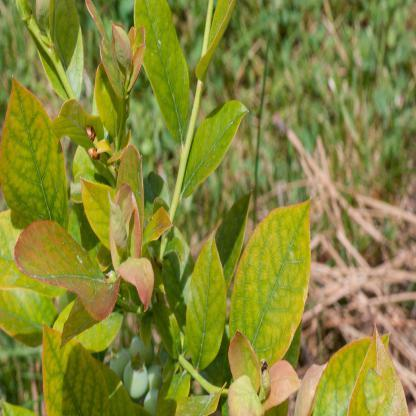Blueberry leaf: (230, 193, 319, 384), (1, 70, 76, 228), (9, 215, 127, 314), (131, 1, 192, 148), (180, 94, 254, 214), (180, 210, 227, 379), (38, 320, 110, 416)
